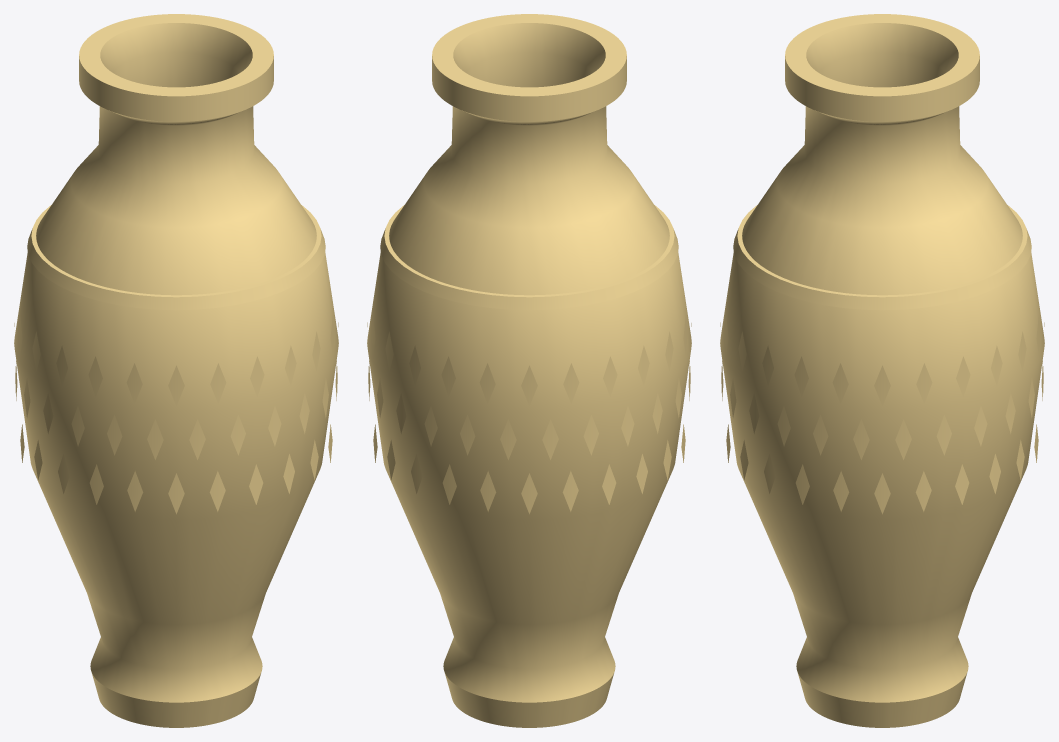
File: desktop.glb
The picture shows the model from 3 angles, left to right: view 1: azimuth 30°, elevation 25°; view 2: azimuth 150°, elevation 25°; view 3: azimuth 270°, elevation 25°; orthographic projection.
Size of the model in its own units: 0.92 by 2 by 0.92.
1 material, 1 textured.
